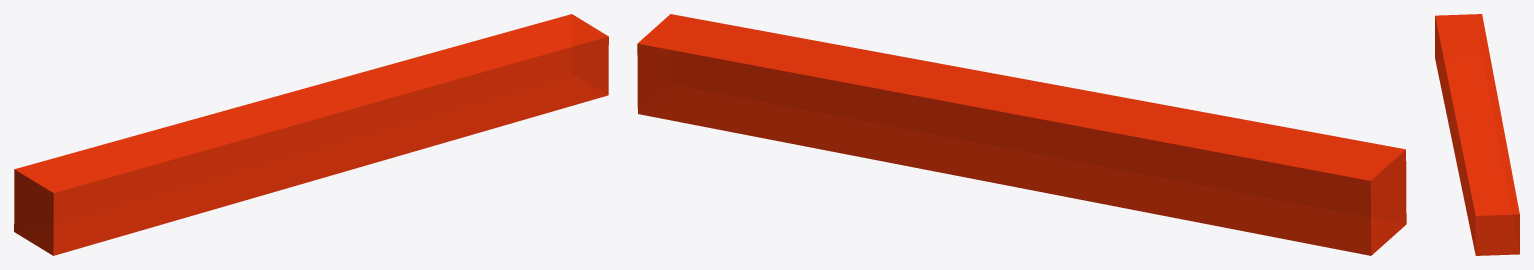
The model's file is Event_421127236_EErechit_13.fbx.
3 renders of one model, left to right at view 1: azimuth 30°, elevation 25°; view 2: azimuth 150°, elevation 25°; view 3: azimuth 270°, elevation 25°, orthographic. The views are drawn at different scales.
Parts seen in each view (by area): view 1: Model; view 2: Model; view 3: Model.
Boxes of the visible parts, x1,y1,x2,y2 form: Model: (14, 14, 608, 255); Model: (637, 14, 1406, 255); Model: (1435, 14, 1519, 255).
Size of the model in its own units: 0.7628 by 0.0821 by 0.139.
